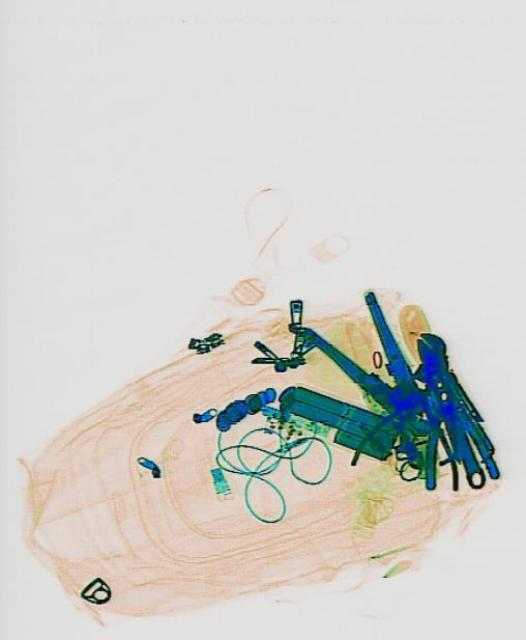Pliers: (290, 272, 443, 446), (346, 356, 475, 489)
Wrench: (410, 324, 492, 492)
